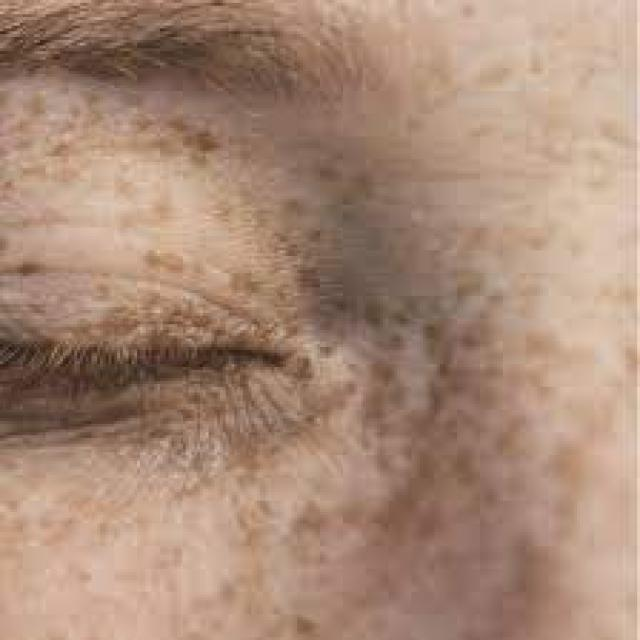pigmentation: (223, 216, 444, 424)
